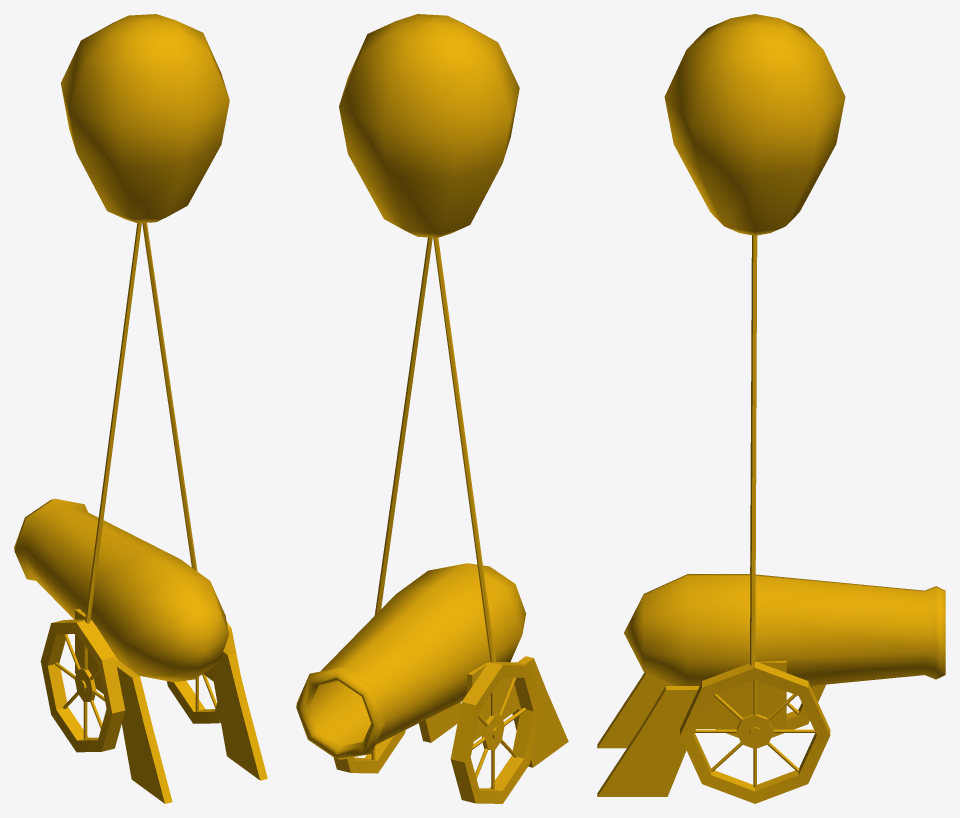
The model's file is Canon.fbx.
The picture shows the model from 3 angles, left to right: view 1: azimuth 30°, elevation 25°; view 2: azimuth 150°, elevation 25°; view 3: azimuth 270°, elevation 25°; orthographic projection. The views are drawn at different scales.
Visible parts, largest first — view 1: polySurface78; view 2: polySurface78; view 3: polySurface78.
Boxes of the visible parts, x1,y1,x2,y2 form: polySurface78: [14, 14, 267, 803]; polySurface78: [296, 14, 568, 803]; polySurface78: [597, 14, 945, 803].
Bounding box in the file's own units: 273 × 1226 × 516.
